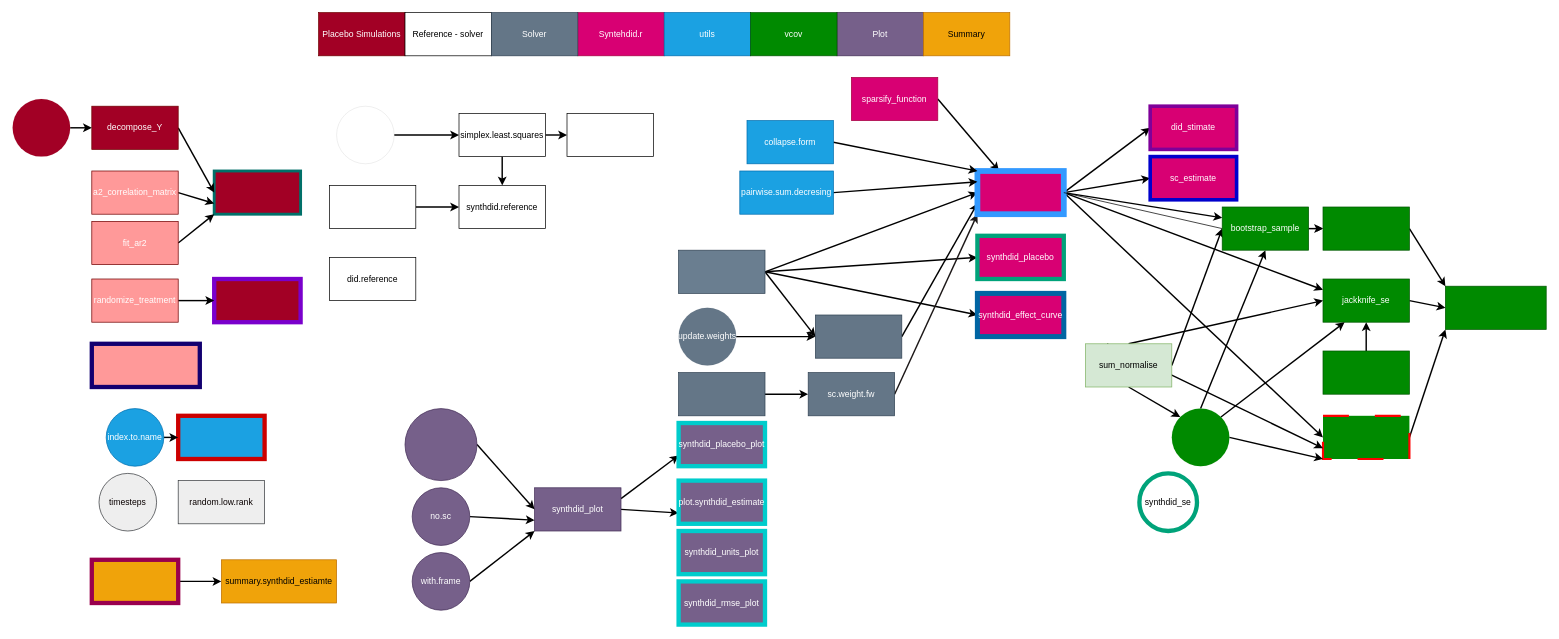
Image size: 1559x639. Some labels were removed from this diagram. The shapes that lost their labels are listed below. From the top down, each one's centre as x and y in pixels, then its label:
point 41,127: svd
point 365,134: CVXR - variable, problem, solve
point 609,135: sc.reference
point 257,192: Estimate_dgp
point 372,207: sigma.default
point 1020,192: synthdid_estimate
point 1365,228: bootstrap_se
point 721,271: contract3
point 257,300: simulate_dgp
point 1495,307: vcov.synthdid_estimate
point 858,336: sc.weight.fw.covariates
point 145,365: lindsey_density_estimate
point 1365,372: jackknife
point 721,394: fw.step
point 221,437: panel matrices
point 440,444: concatenate.field
point 1200,437: theta
point 1366,437: placebo_se
point 134,581: synthdid_controls
